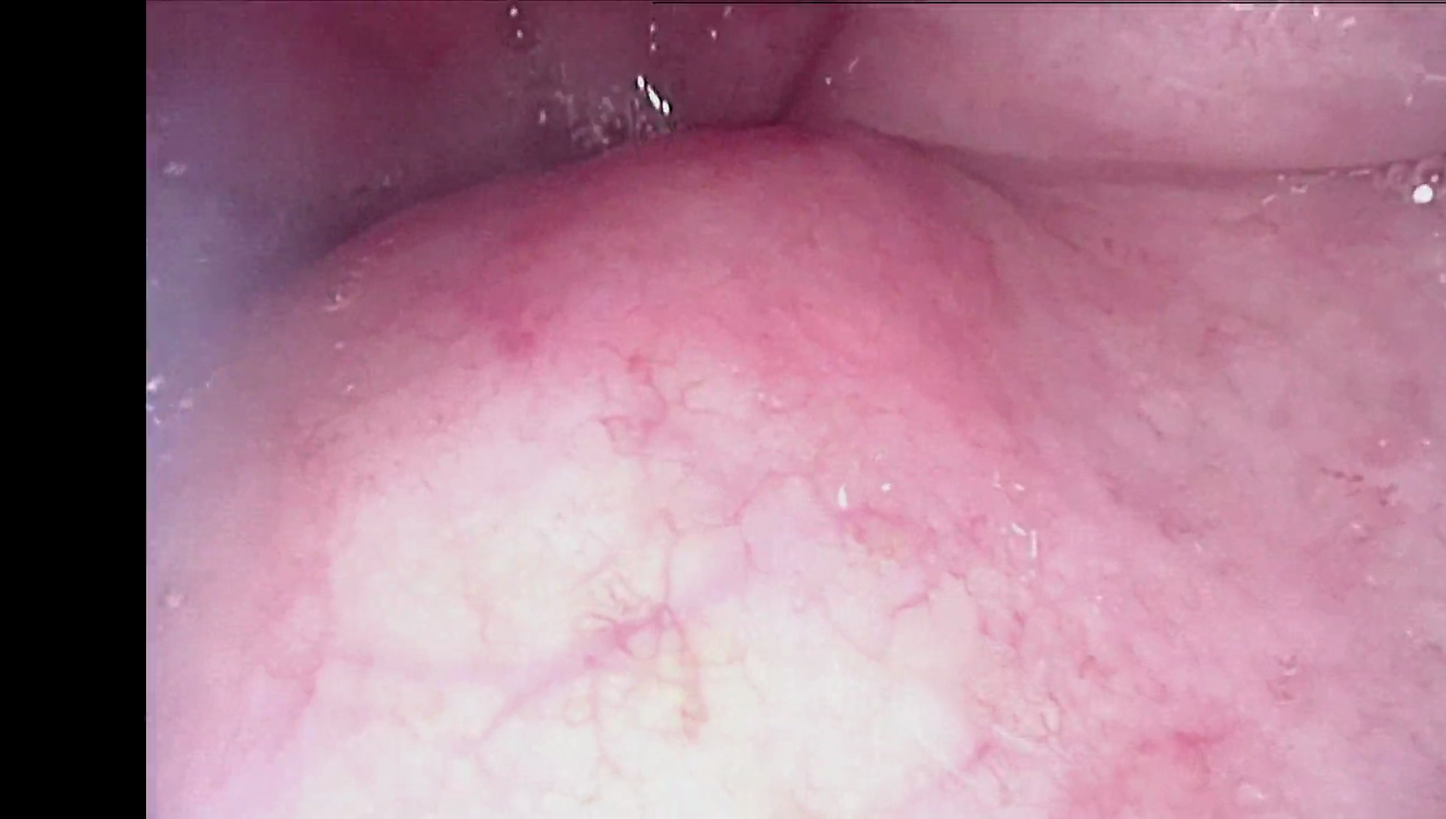close_wall: (197, 296, 1175, 819)
next: (240, 145, 445, 254)
